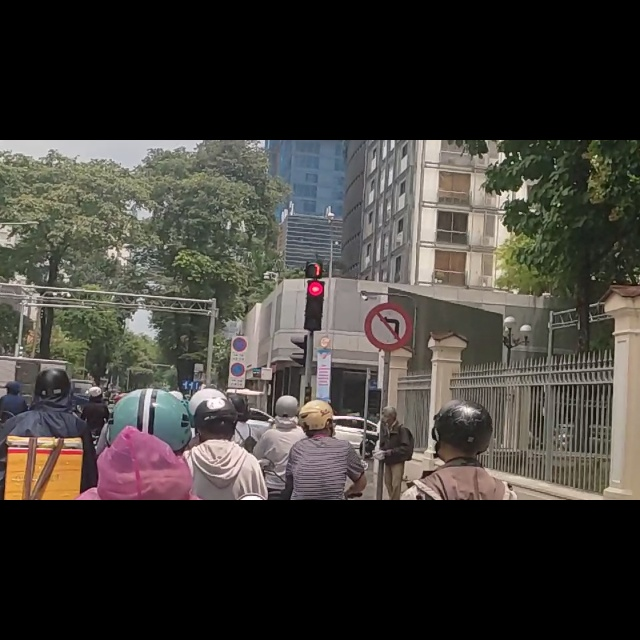bien_cam: (363, 286, 413, 377), (232, 350, 247, 377), (231, 393, 245, 421)
